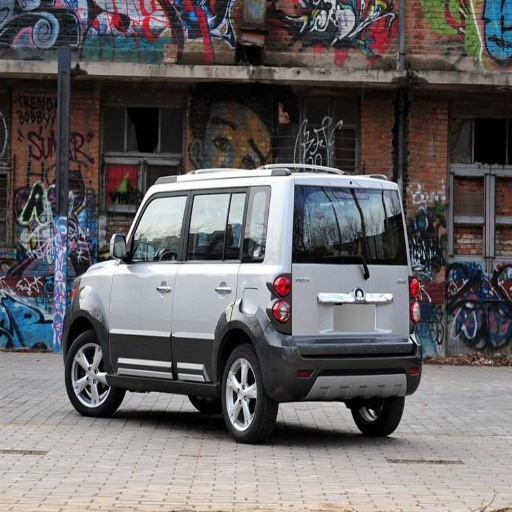back_bumper: (272, 334, 420, 396)
back_glass: (296, 209, 345, 261)
back_left_door: (172, 188, 254, 375)
trunk: (290, 264, 410, 353)
